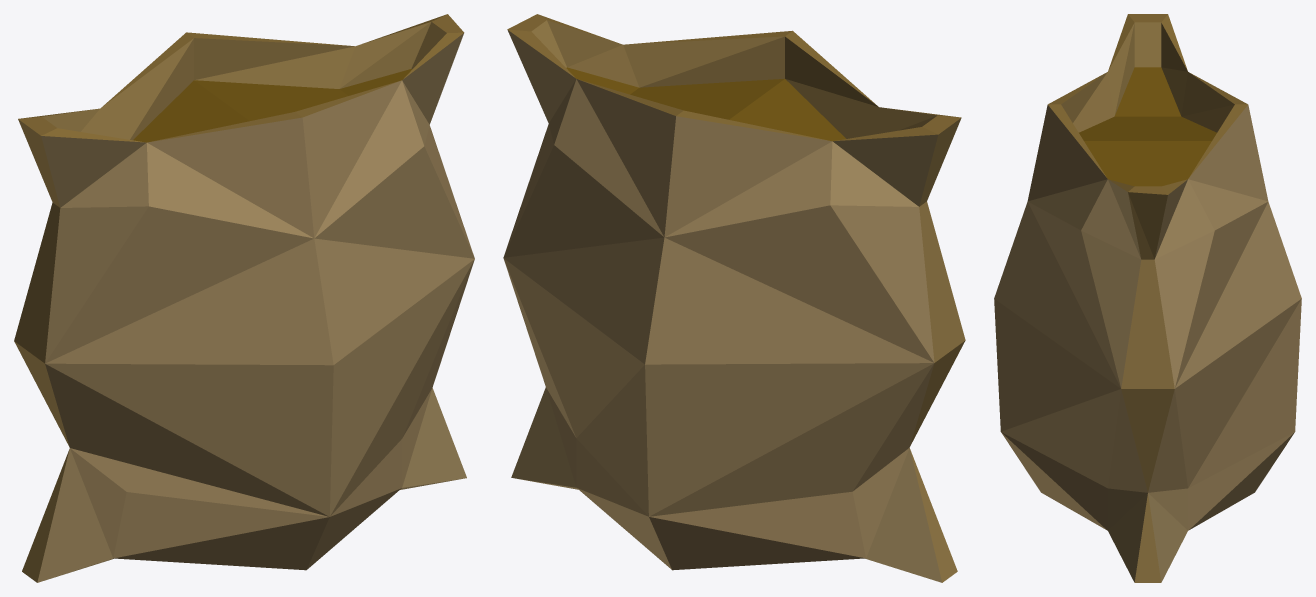
The model's file is herb-sack.gltf.
3 views of the same model, side by side, from view 1: azimuth 30°, elevation 25°; view 2: azimuth 150°, elevation 25°; view 3: azimuth 270°, elevation 25° (orthographic). The views are drawn at different scales.
Size of the model in its own units: 64 by 64 by 46.
1 material, 1 textured.
